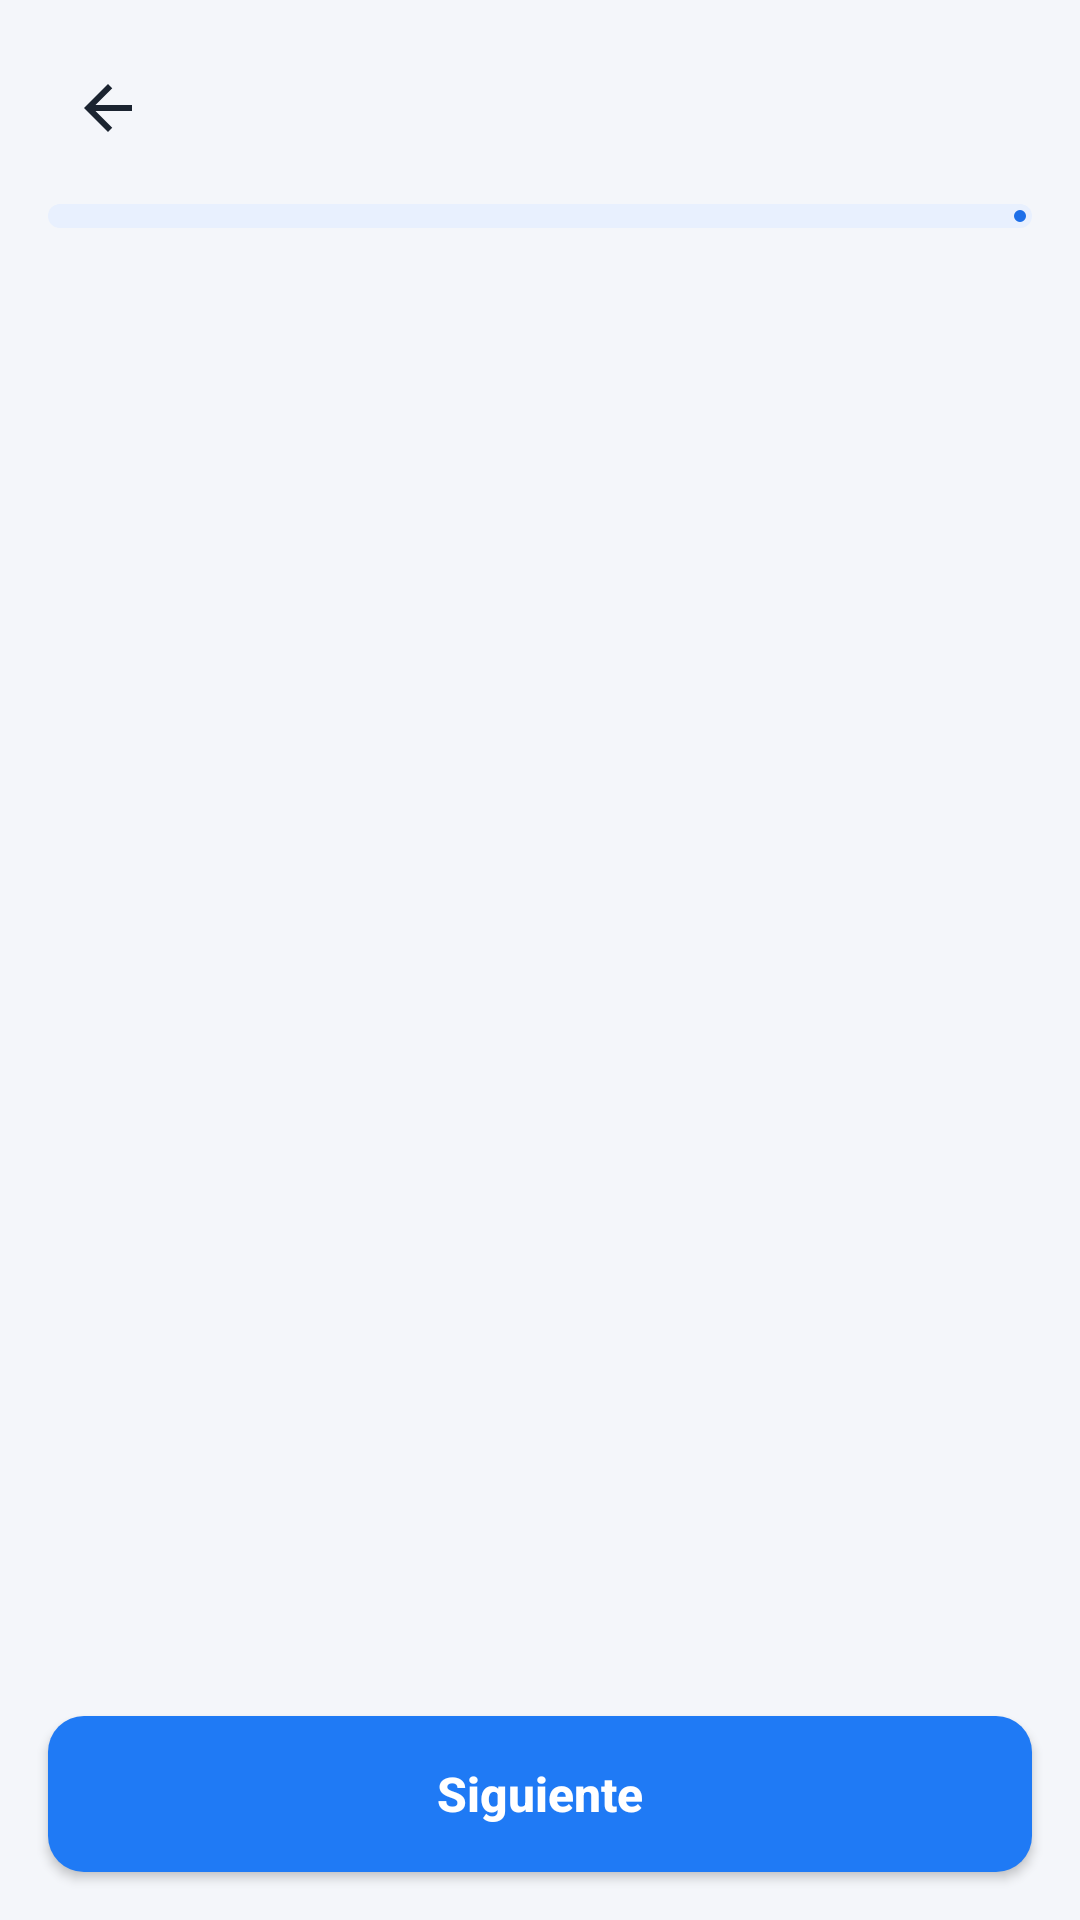

Where to tap for icons on this 1080*1920 app screen, as [x,y]:
Volver: [108,108]
